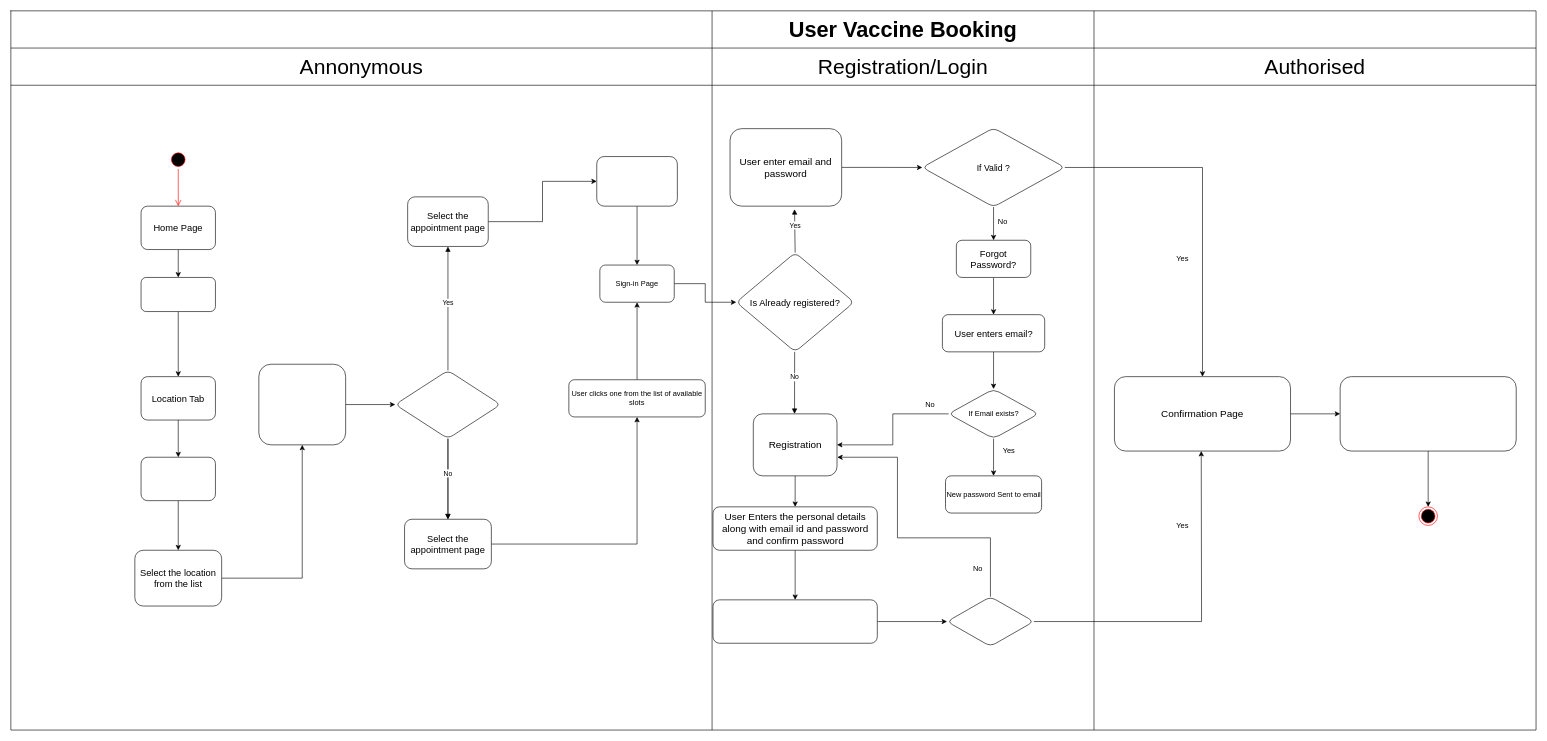
This 1547x741 diagram has some shape labels left out. The shapes that lost their labels are listed below. From the top down, each one's centre as x and y in pixels, then its label:
At (636,181): "Default slot is highlighted for the day".
At (177,294): "Book Now".
At (302,404): "Select the provider page".
At (448,404): "Default slot Booking".
At (1428,413): "Log out".
At (177,479): "User enters the postal code".
At (794,621): "User clicks on Register Button".
At (990,621): "If password matches?".
